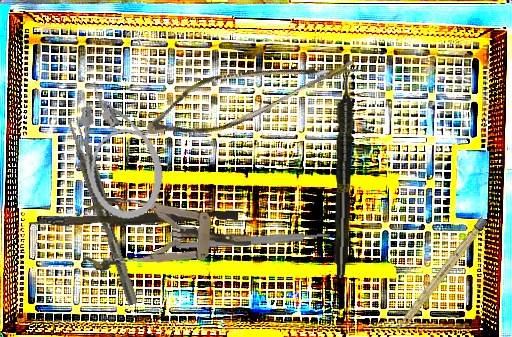Cannula: (69, 71, 171, 227)
Handpiece: (331, 71, 357, 279)
Micro Scissor: (139, 10, 365, 172)
Pusher: (28, 204, 239, 235)
Scalpel Handle: (393, 216, 489, 335), (175, 230, 331, 251)
Speculum: (82, 196, 253, 279)
Tissue Forceps: (65, 115, 139, 308)
